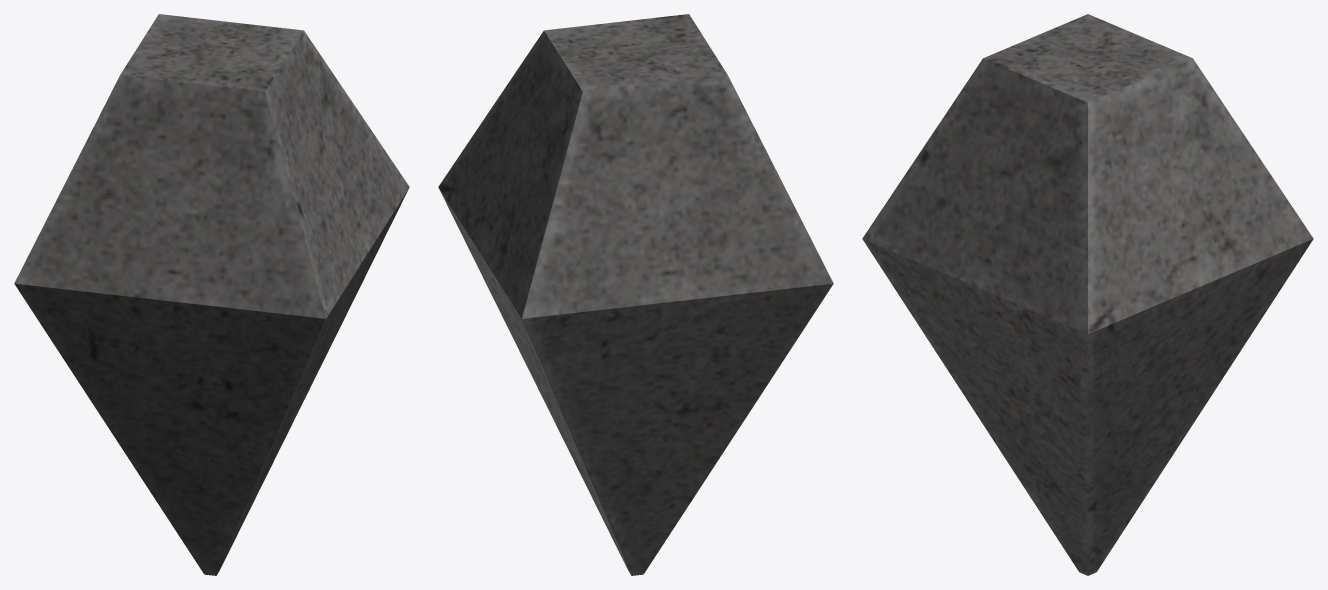
The model's file is wm_nazgul_sword_pommel.fbx.
3 views of the same model, side by side, from view 1: azimuth 30°, elevation 25°; view 2: azimuth 150°, elevation 25°; view 3: azimuth 270°, elevation 25° (orthographic).
Visible parts, largest first — view 1: wm_nazgul_sword_pommel; view 2: wm_nazgul_sword_pommel; view 3: wm_nazgul_sword_pommel.
Part boxes in pixels (<box>): wm_nazgul_sword_pommel: <box>14,14,409,575</box>; wm_nazgul_sword_pommel: <box>438,14,833,575</box>; wm_nazgul_sword_pommel: <box>862,14,1313,575</box>.
Size of the model in its own units: 0.0541 by 0.0541 by 0.0679.
Materials: 1 (1 with a texture image).
